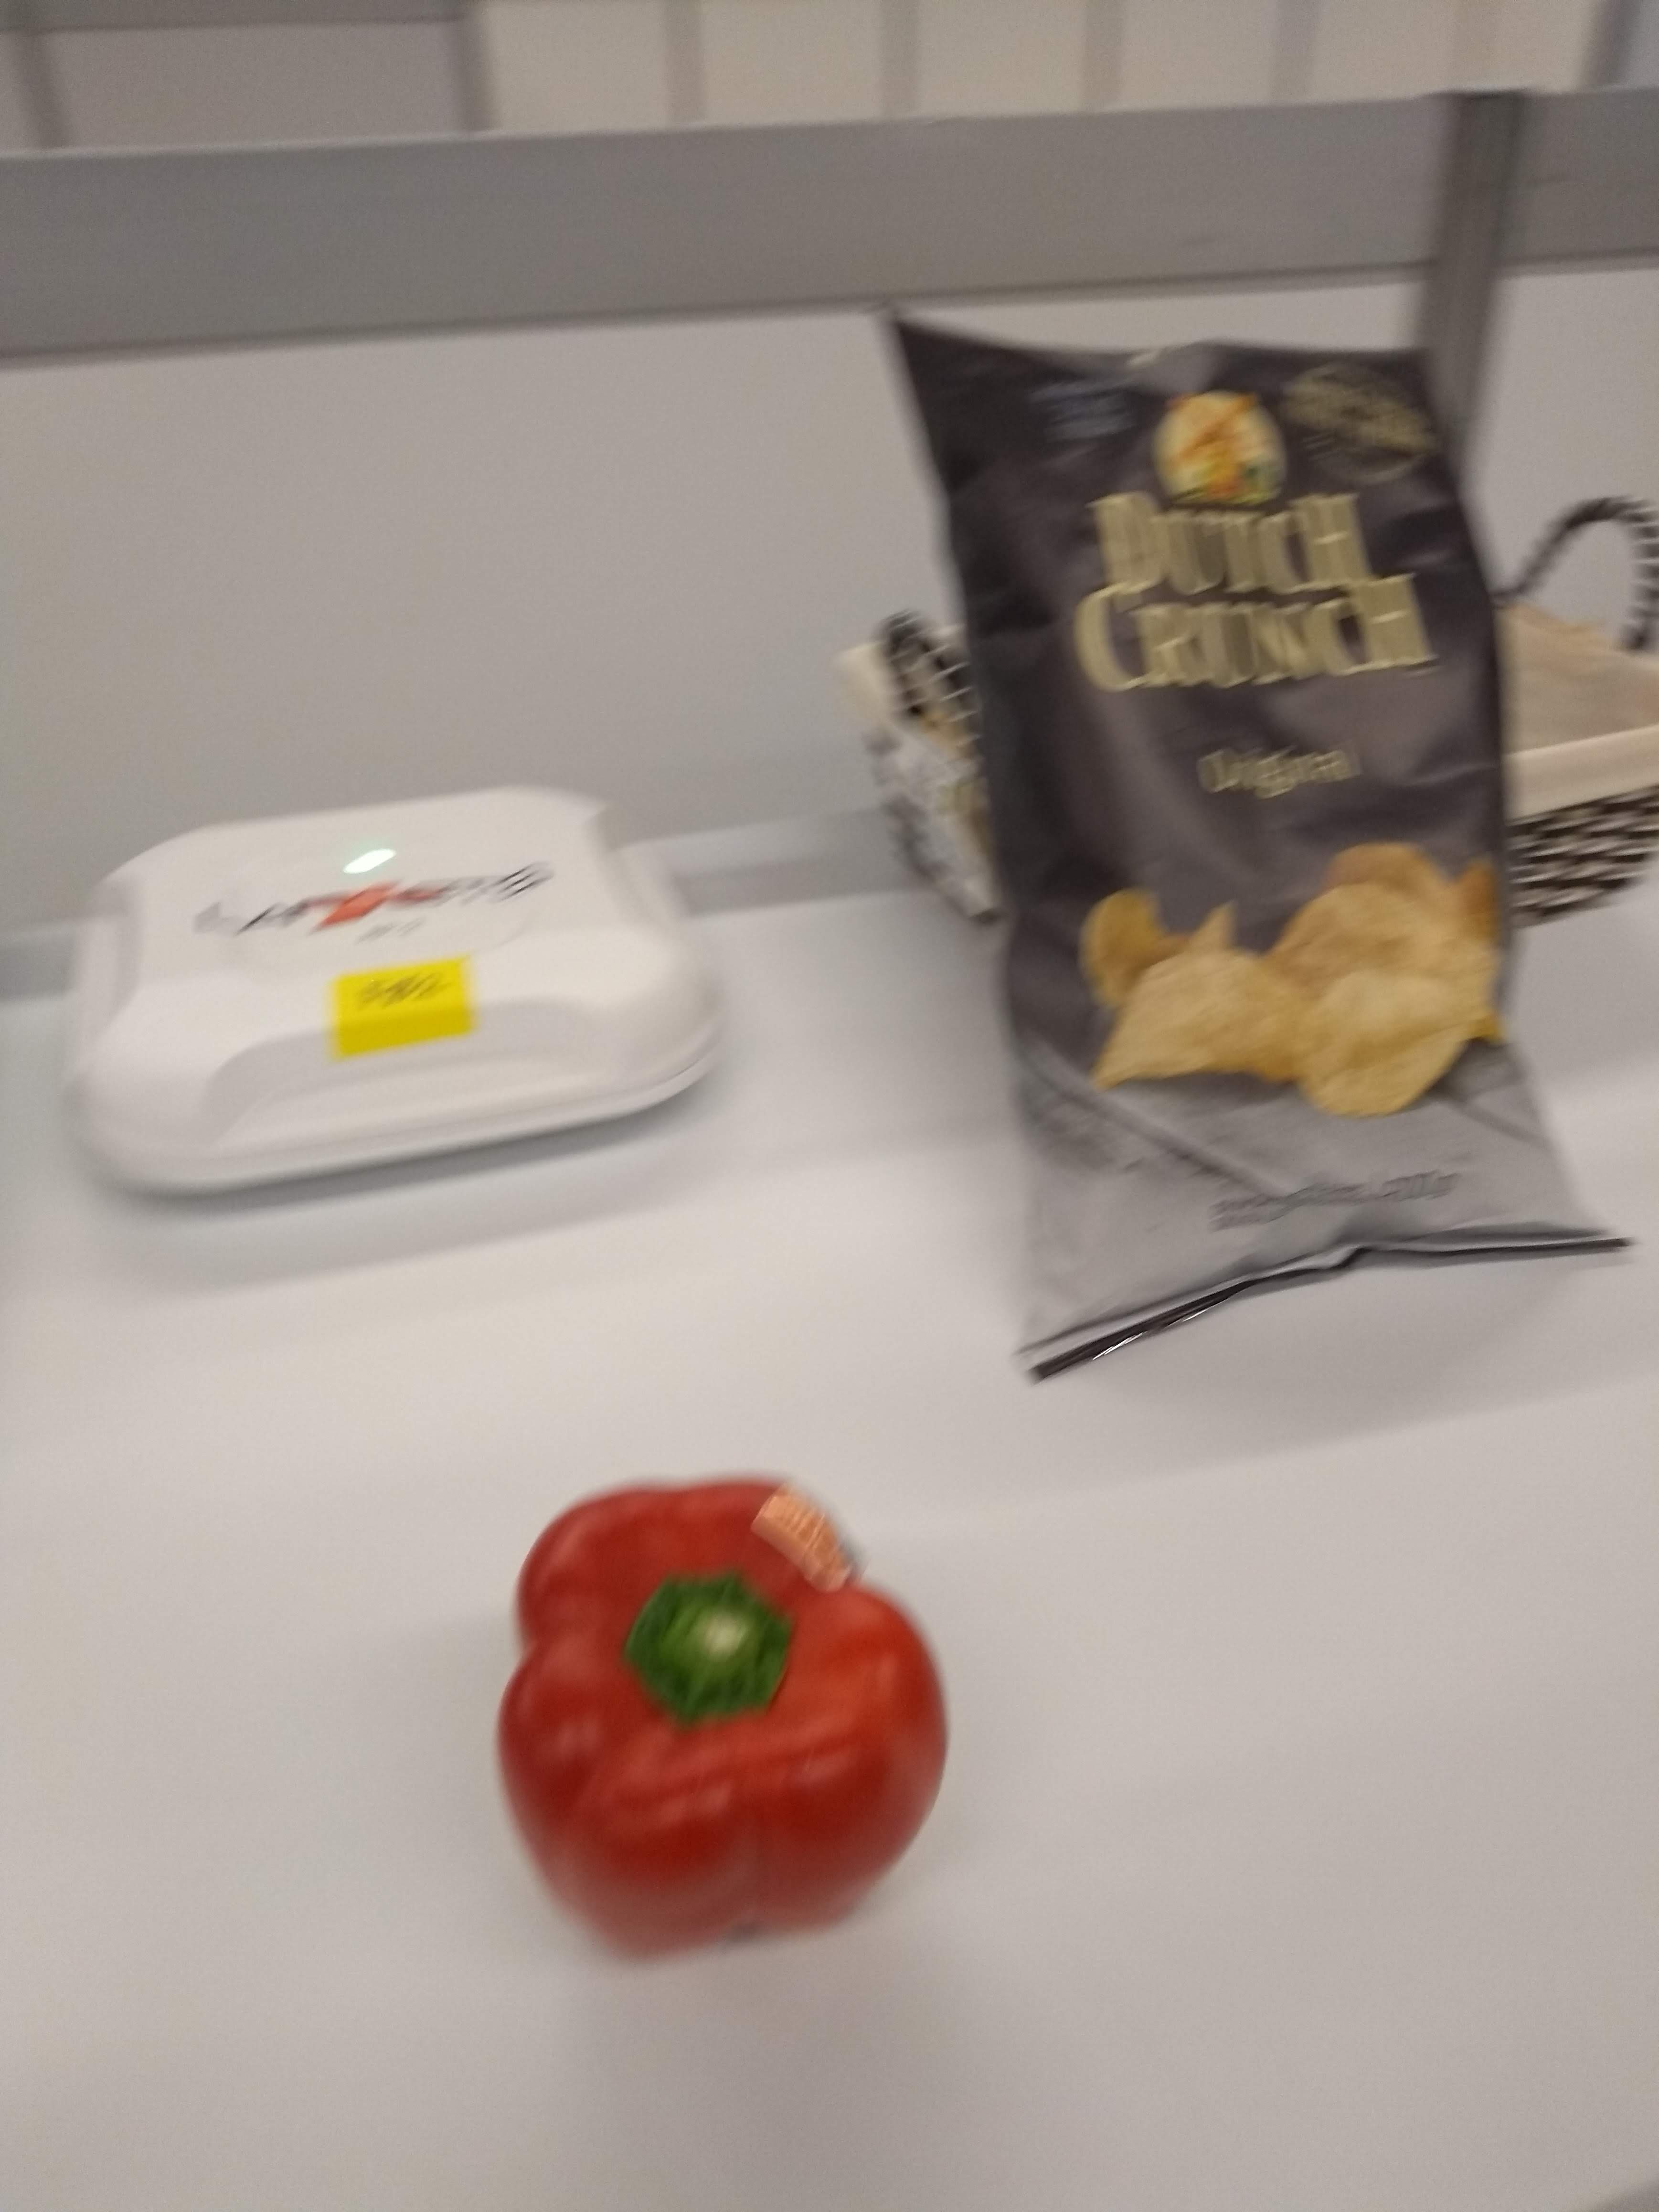paprika: (479, 1460, 960, 1973)
potato_chips: (864, 300, 1633, 1404)
